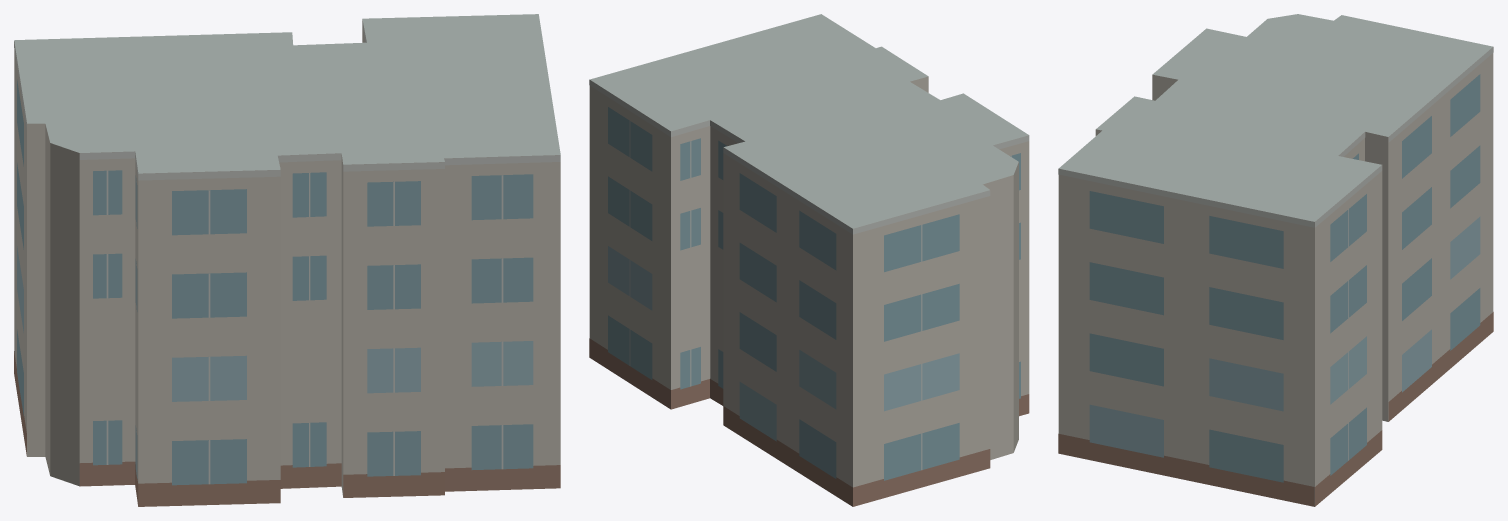
Rendered from survey-upis-32889591.glb.
3 views of the same model, side by side, from view 1: azimuth 30°, elevation 25°; view 2: azimuth 150°, elevation 25°; view 3: azimuth 270°, elevation 25° (orthographic). The views are drawn at different scales.
Visible parts, largest first — view 1: survey-upis-32889591.tmp; view 2: survey-upis-32889591.tmp; view 3: survey-upis-32889591.tmp.
Boxes of the visible parts, x1,y1,x2,y2 form: survey-upis-32889591.tmp: (14, 14, 560, 506); survey-upis-32889591.tmp: (589, 14, 1029, 506); survey-upis-32889591.tmp: (1058, 14, 1493, 506).
Bounding box in the file's own units: 18.32 × 11.7 × 16.19.
